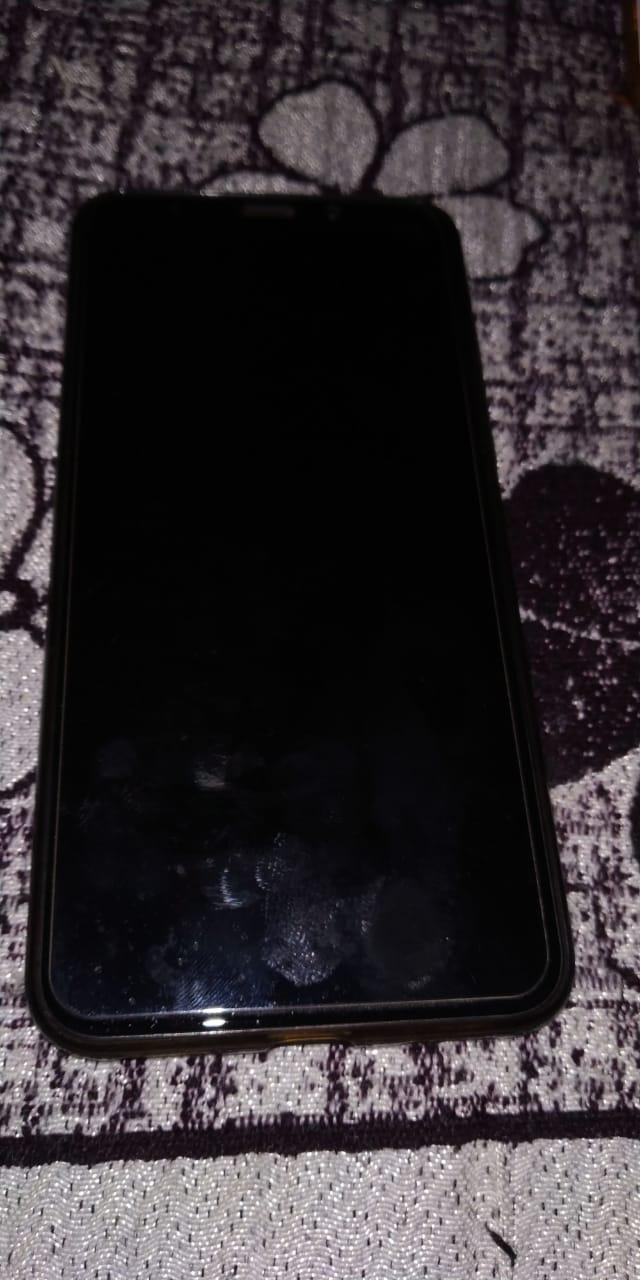Phone: (16, 141, 591, 1088)
